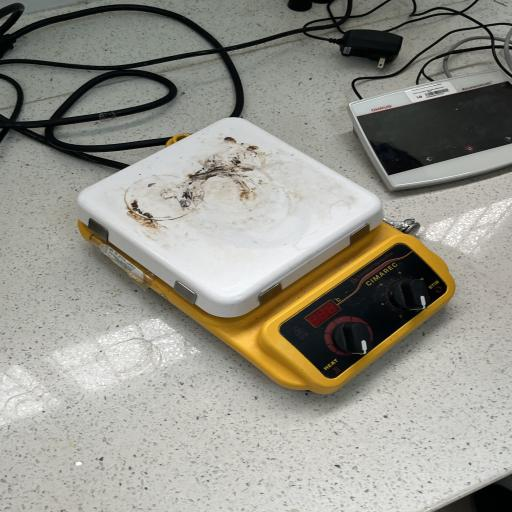Plancha_Agitacion_Cimarec: (67, 109, 468, 419)
